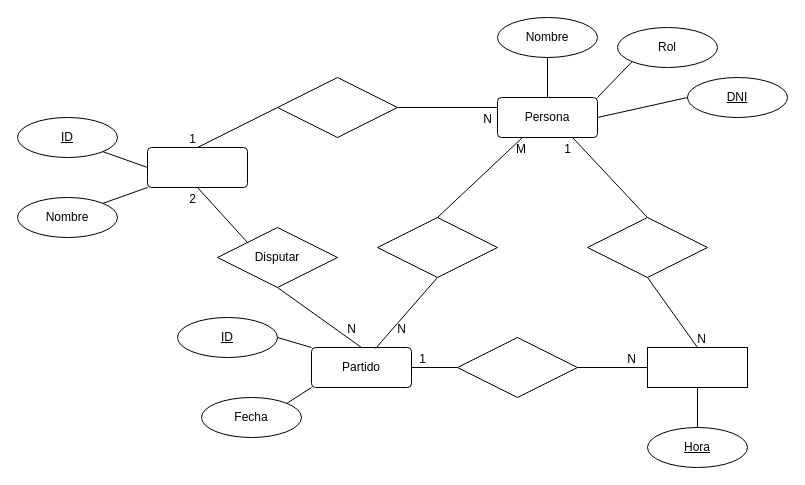
Image size: 805x485. Some labels were removed from this diagram. Here are the shapes that lost their labels. From the top down, the centre of each, then its label:
At [337,107]: "Formar".
At [197,167]: "Equipo".
At [437,247]: "Participar".
At [647,247]: "Marcar".
At [517,367]: "Registrar".
At [697,367]: "Gol".
